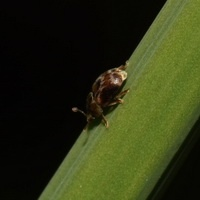insect: (72, 63, 128, 127)
